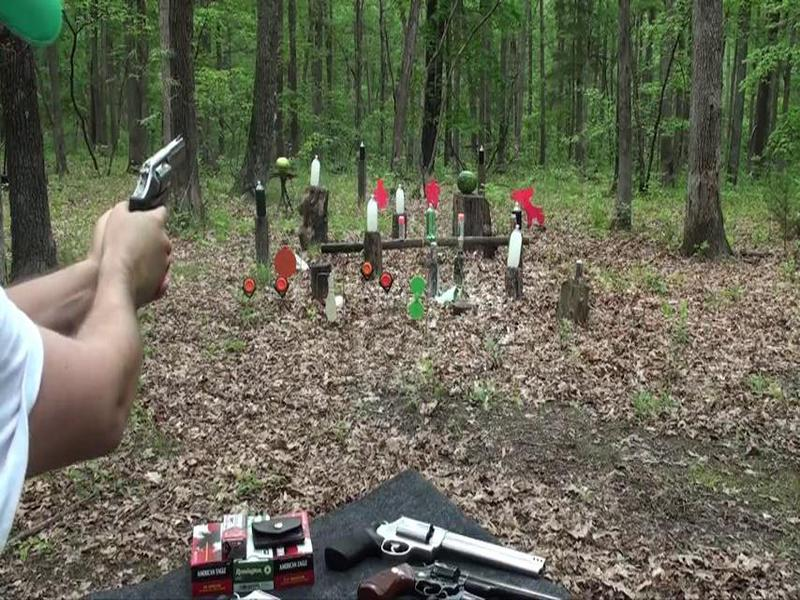Revolver: (108, 130, 202, 247)
